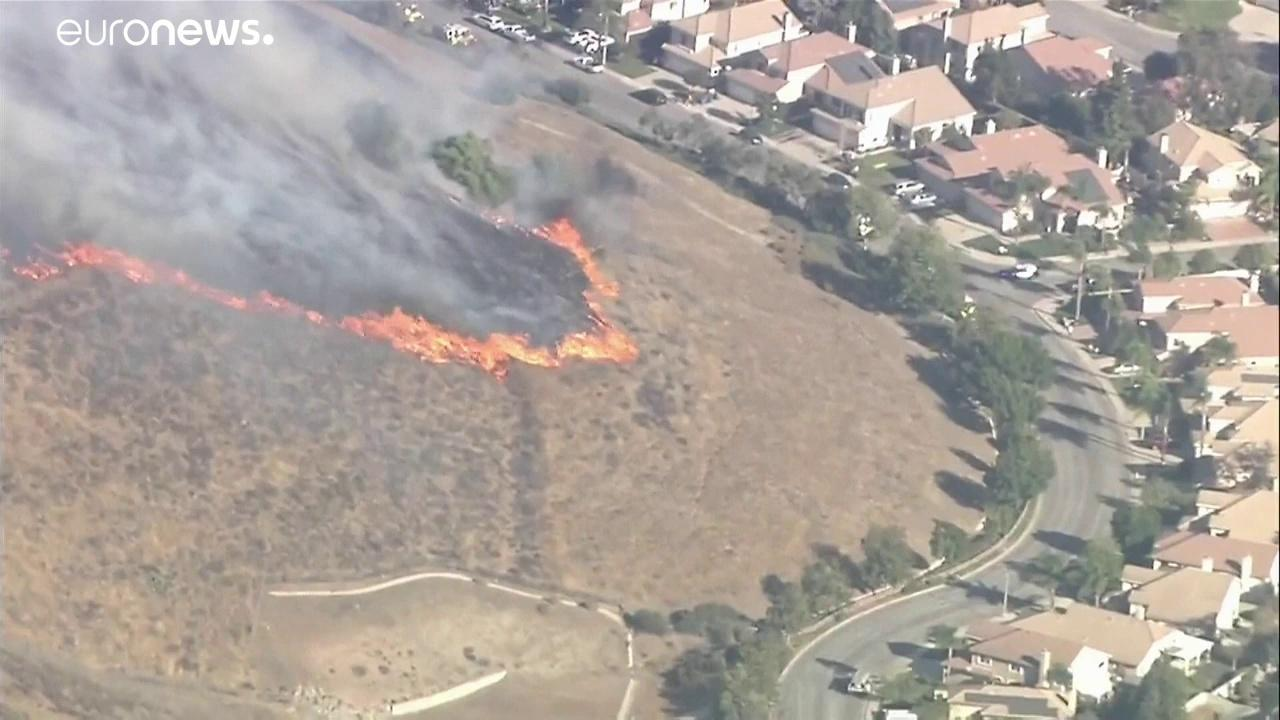fire: (366, 309, 624, 367), (562, 220, 615, 308)
smoke: (101, 33, 342, 260)
